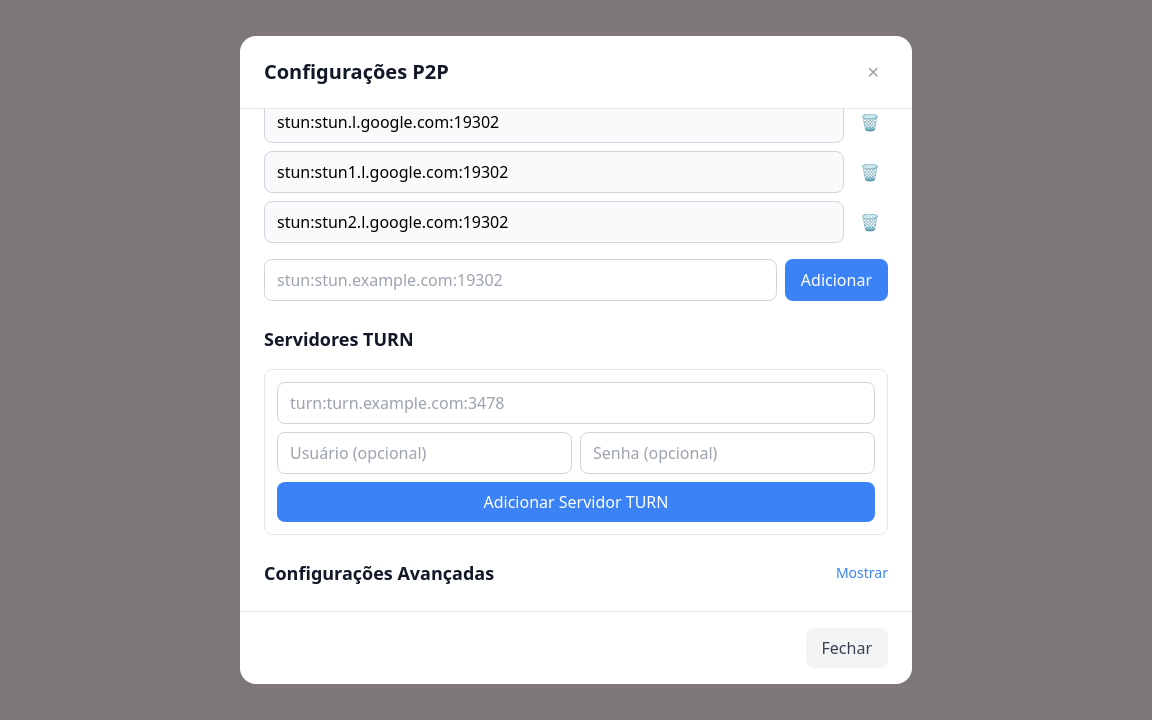
it: P2PConfigPanel › allows adding TURN servers
(page scrolled)
In the field with placeholder "turn:turn.example.com:3478": [576, 403] box [277, 382, 875, 424], type "turn:turn.test.com:3478"
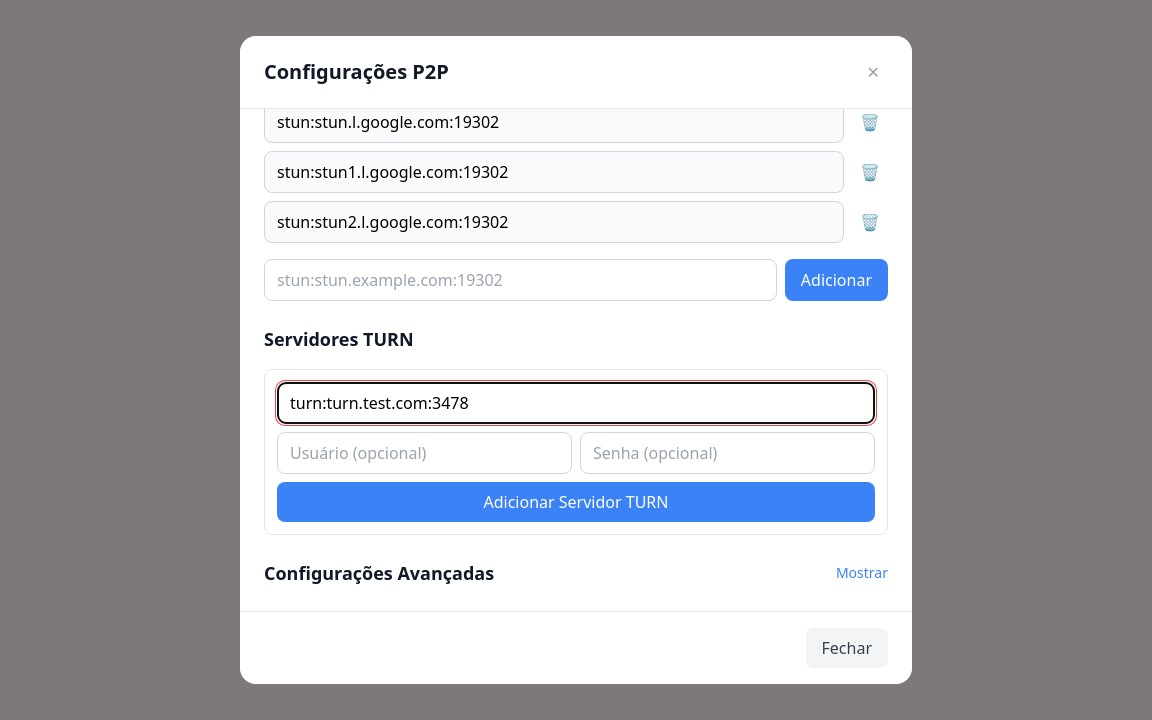
In the field with placeholder "Usuário (opcional)": [424, 453] box [277, 432, 572, 474], type "testuser"
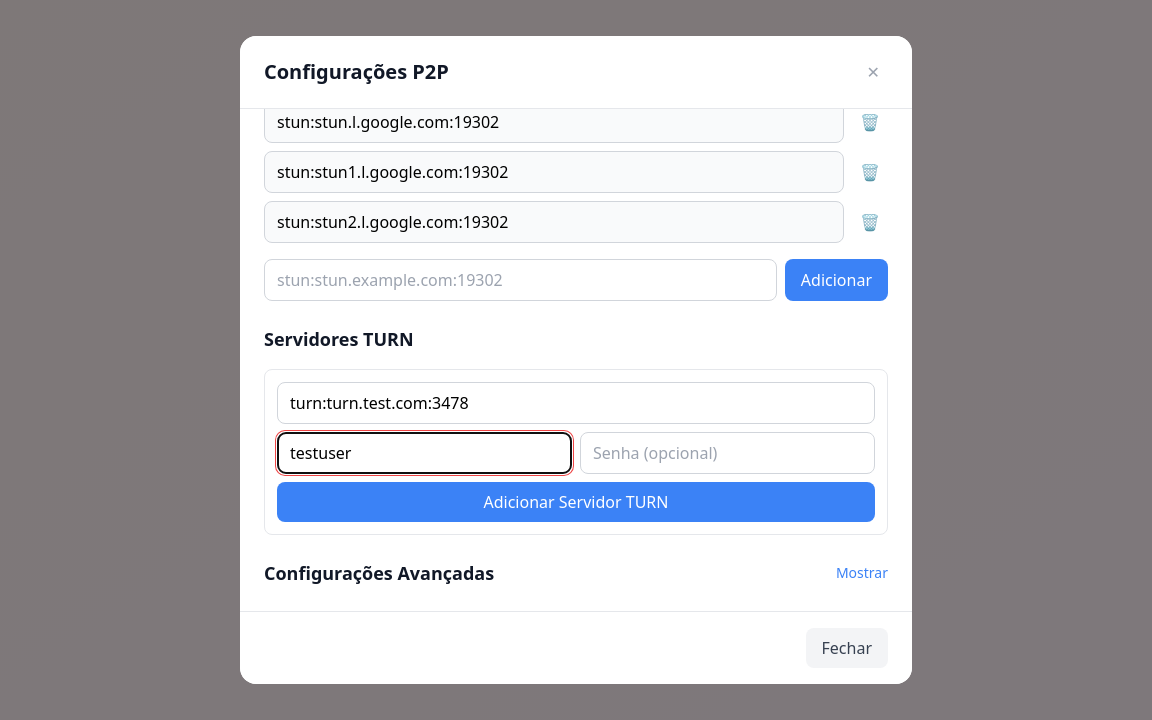
In the password field with placeholder "Senha (opcional)": [728, 453] box [580, 432, 875, 474], type "testpass"
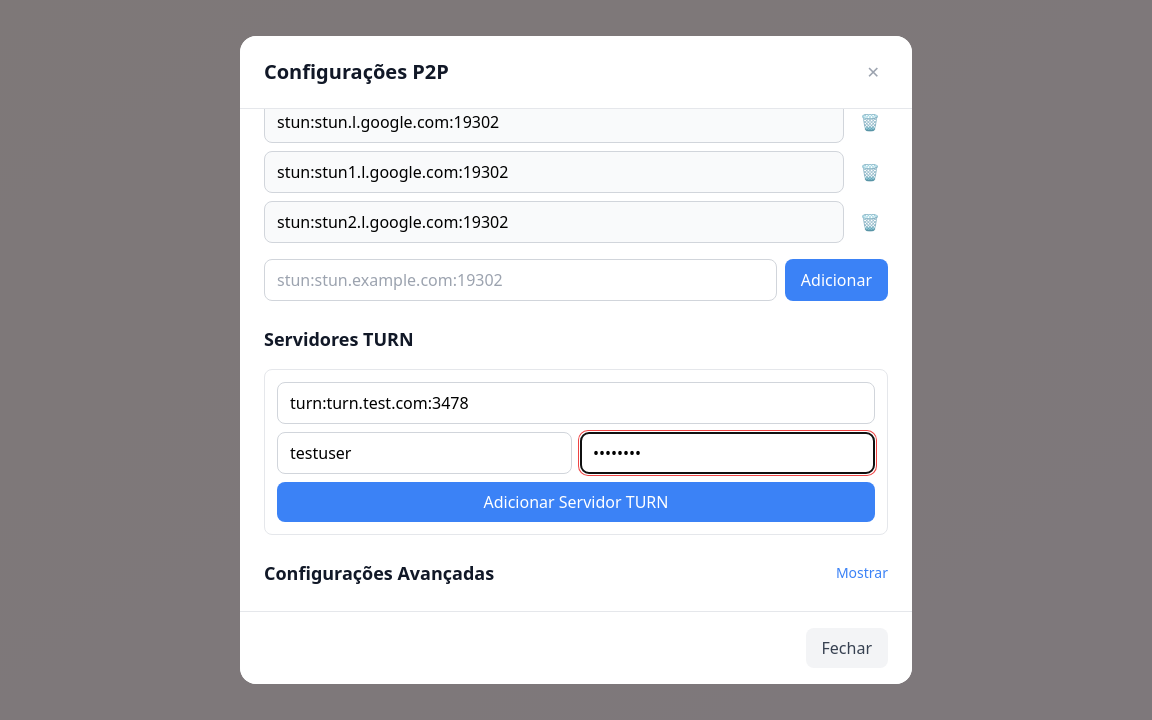
Click the button "Adicionar Servidor TURN": [576, 502] box [277, 482, 875, 522]
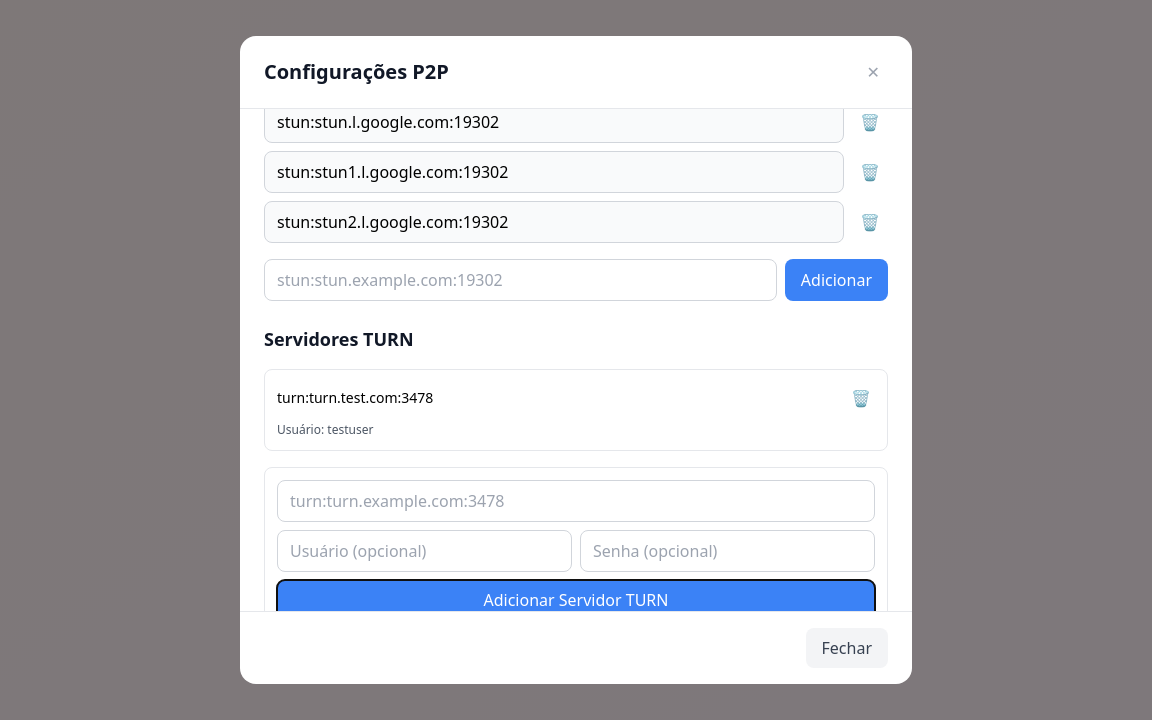
Now the text "turn:turn.test.com:3478" is shown, box [277, 388, 433, 408]
Now the text "Usuário: testuser" is shown, box [277, 421, 373, 438]
